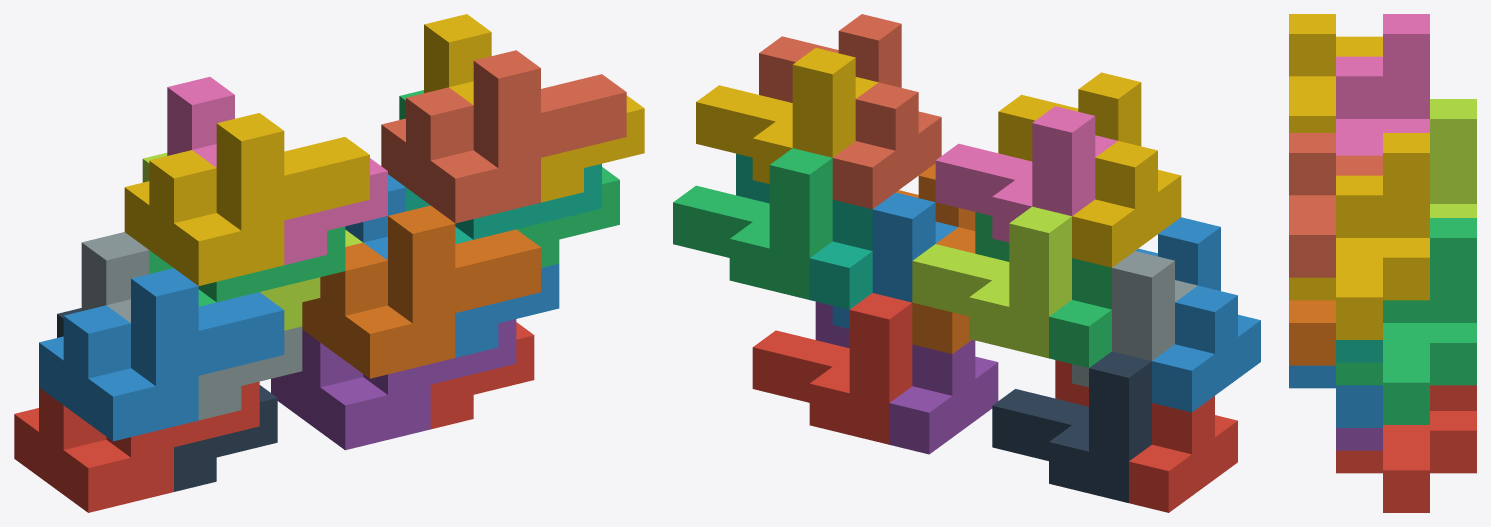
The model's file is tiling.obj.
3 views of the same model, side by side, from view 1: azimuth 30°, elevation 25°; view 2: azimuth 150°, elevation 25°; view 3: azimuth 270°, elevation 25° (orthographic). The views are drawn at different scales.
Visible parts, largest first — view 1: copy_1_domain_4, copy_1_domain_2, copy_1_domain_8, copy_1_domain_6, copy_1_domain_1, copy_1_domain_5, copy_2_domain_8, copy_2_domain_4, copy_2_domain_2, copy_2_domain_6, copy_2_domain_1, copy_1_domain_3 (+4 smaller); view 2: copy_1_domain_4, copy_1_domain_8, copy_2_domain_5, copy_2_domain_7, copy_2_domain_1, copy_2_domain_3, copy_1_domain_2, copy_2_domain_4, copy_2_domain_8, copy_1_domain_5, copy_1_domain_1, copy_2_domain_2 (+4 smaller); view 3: copy_2_domain_8, copy_2_domain_7, copy_2_domain_4, copy_2_domain_5, copy_1_domain_8, copy_1_domain_4, copy_2_domain_3, copy_2_domain_6, copy_1_domain_6, copy_1_domain_5, copy_1_domain_7.
Boxes of the visible parts, x1,y1,x2,y2 form: copy_1_domain_4: [124, 113, 369, 285]; copy_1_domain_2: [39, 268, 284, 441]; copy_1_domain_8: [381, 50, 626, 223]; copy_1_domain_6: [302, 205, 540, 378]; copy_1_domain_1: [14, 381, 259, 512]; copy_1_domain_5: [271, 319, 516, 450]; copy_2_domain_8: [424, 14, 644, 202]; copy_2_domain_4: [167, 76, 387, 265]; copy_2_domain_2: [81, 232, 302, 420]; copy_2_domain_6: [345, 174, 559, 357]; copy_2_domain_1: [57, 308, 277, 491]; copy_1_domain_3: [149, 226, 345, 306]; copy_1_domain_4: [998, 72, 1181, 267]; copy_1_domain_8: [759, 14, 941, 209]; copy_2_domain_5: [752, 293, 912, 444]; copy_2_domain_7: [673, 148, 832, 299]; copy_2_domain_1: [992, 351, 1151, 502]; copy_2_domain_3: [912, 206, 1071, 358]; copy_1_domain_2: [1135, 217, 1260, 412]; copy_2_domain_4: [935, 106, 1117, 242]; copy_2_domain_8: [696, 48, 878, 183]; copy_1_domain_5: [815, 301, 998, 454]; copy_1_domain_1: [1055, 360, 1237, 512]; copy_2_domain_2: [1072, 251, 1197, 387]; copy_2_domain_8: [1289, 133, 1429, 339]; copy_2_domain_7: [1336, 218, 1476, 424]; copy_2_domain_4: [1336, 14, 1429, 155]; copy_2_domain_5: [1336, 385, 1476, 512]; copy_1_domain_8: [1289, 133, 1382, 277]; copy_1_domain_4: [1289, 14, 1382, 132]; copy_2_domain_3: [1430, 99, 1476, 217]; copy_2_domain_6: [1289, 365, 1382, 427]; copy_1_domain_6: [1289, 300, 1335, 365]; copy_1_domain_5: [1336, 428, 1382, 450]; copy_1_domain_7: [1336, 340, 1382, 362].
Size of the model in its own units: 13 by 8 by 4.
